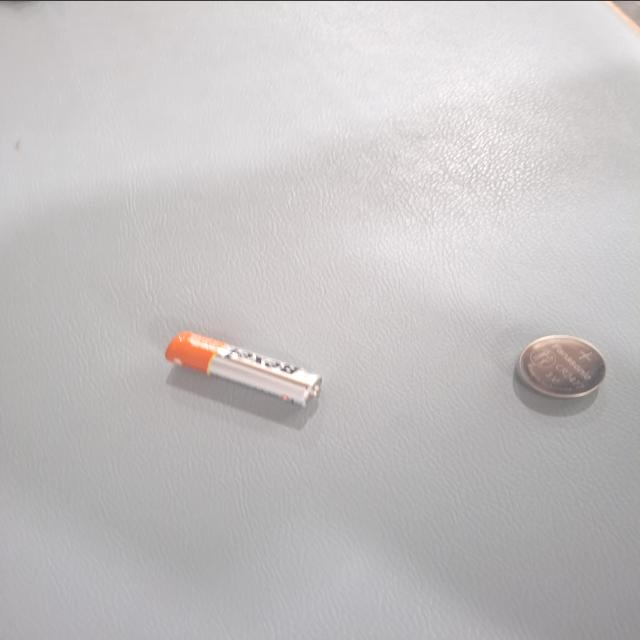AA: (439, 398, 542, 516)
COIN: (444, 184, 530, 254)
